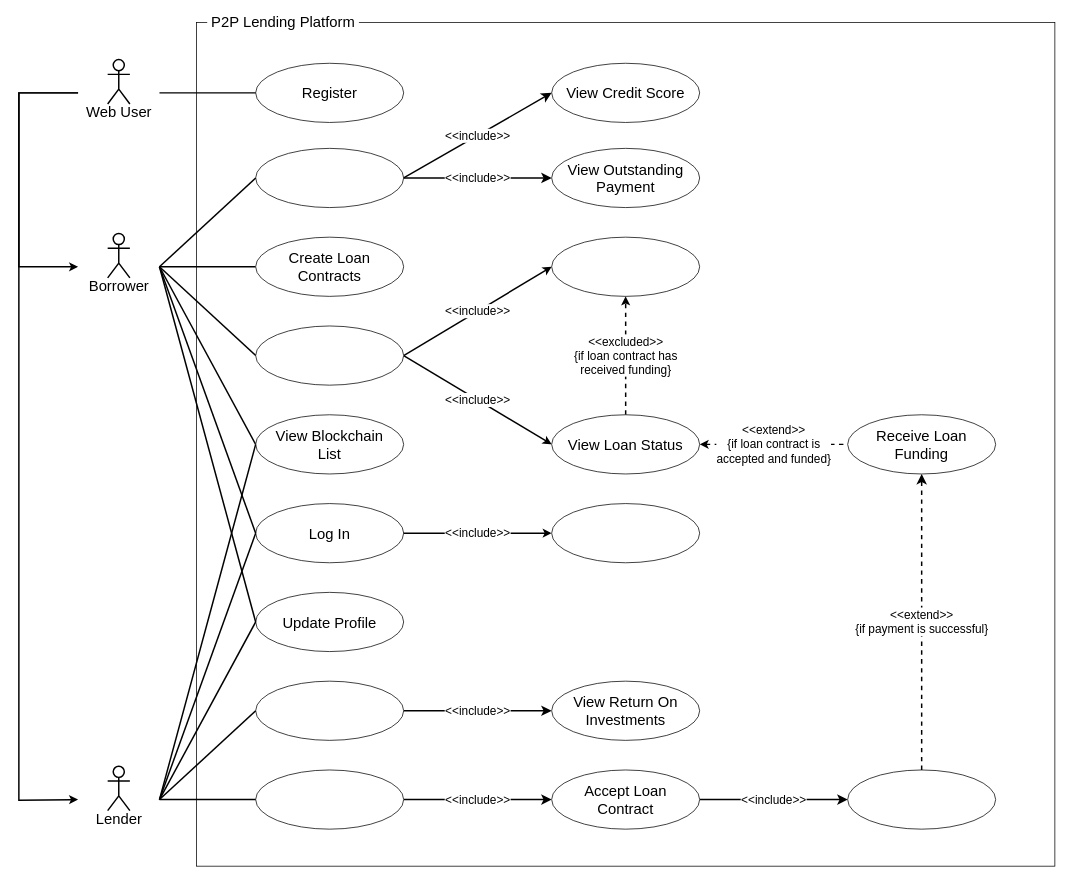
This 1068x879 diagram has some shape labels left out. The shapes that lost their labels are listed below. From the top down, each one's centre as x and y in pixels, then its label:
At (x=329, y=178): "View Main Menu".
At (x=625, y=266): "Repay Loan".
At (x=329, y=355): "View Loan Contracts".
At (x=625, y=533): "Authenticate User".
At (x=329, y=710): "View Portfolio".
At (x=329, y=799): "View Loan Marketplace".
At (x=921, y=799): "Transfer Funding".
